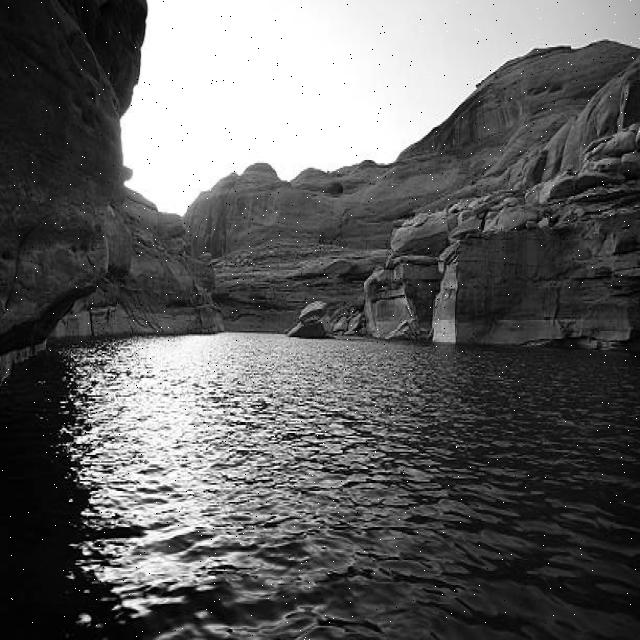Sedimentary: (2, 2, 639, 356)
